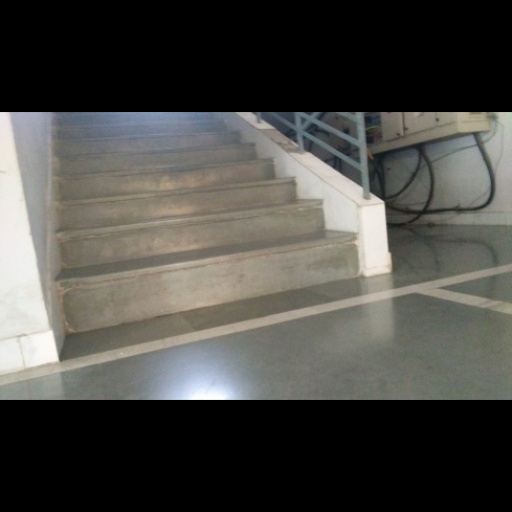Stairs: (54, 114, 390, 333)
